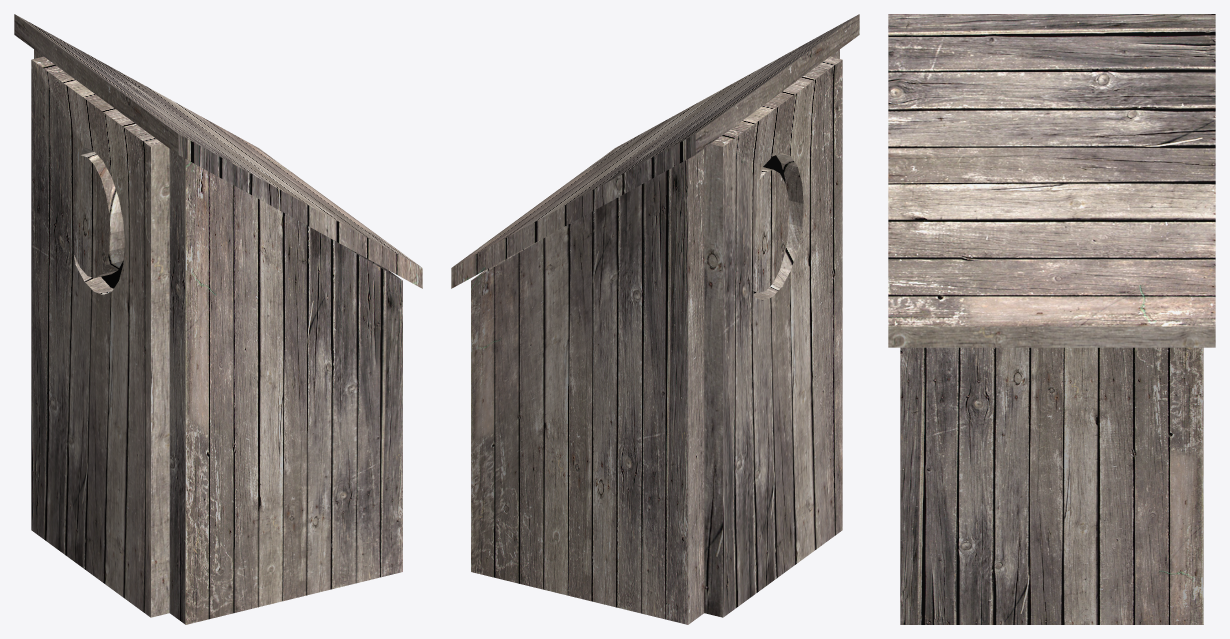
File: outdoor_toilet_01.fbx
The picture shows the model from 3 angles, left to right: view 1: azimuth 30°, elevation 25°; view 2: azimuth 150°, elevation 25°; view 3: azimuth 270°, elevation 25°; orthographic projection.
Parts seen in each view (by area): view 1: outdoor_toilet_01; view 2: outdoor_toilet_01; view 3: outdoor_toilet_01.
Boxes of the visible parts, x1,y1,x2,y2 form: outdoor_toilet_01: [14, 14, 422, 624]; outdoor_toilet_01: [451, 14, 859, 624]; outdoor_toilet_01: [888, 14, 1215, 624].
Bounding box in the file's own units: 1.31 × 2.5 × 1.49.
